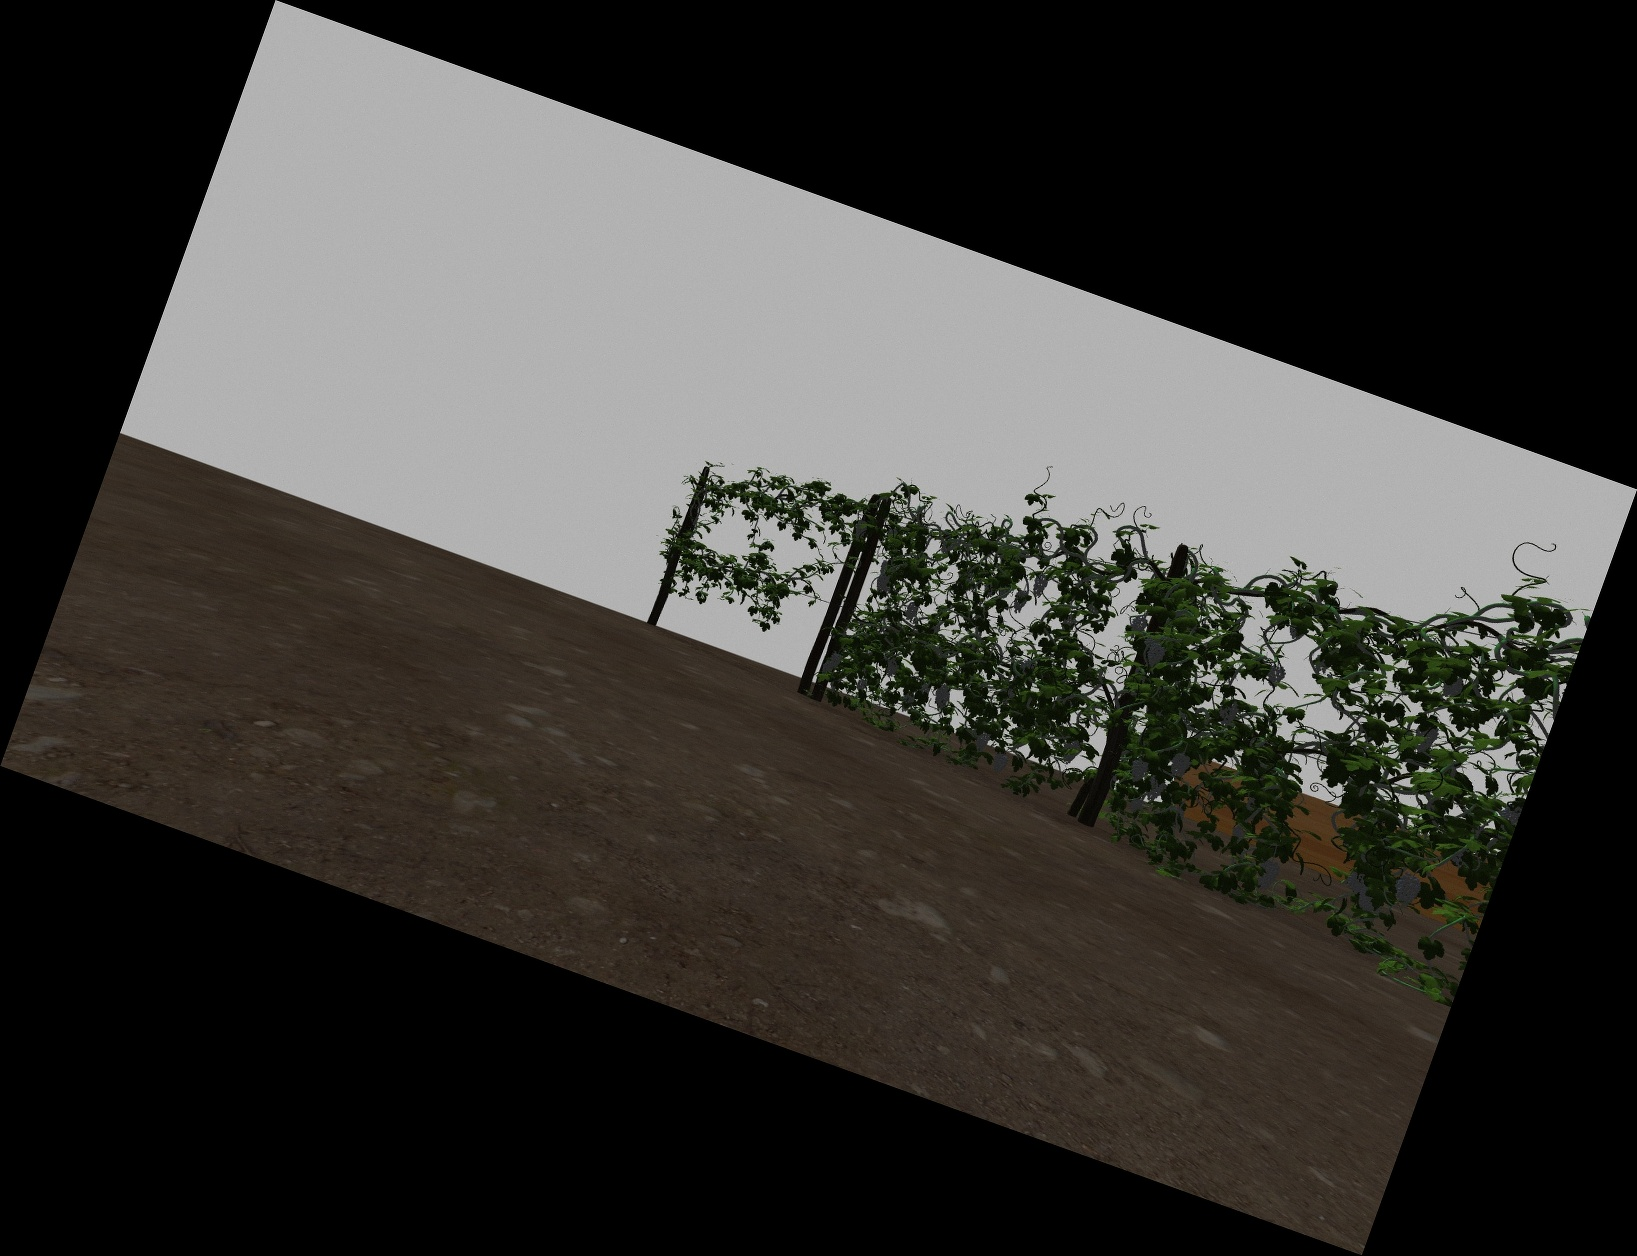grape: (1394, 873, 1419, 906), (1413, 722, 1436, 755), (1257, 859, 1278, 891), (1218, 699, 1237, 730), (1145, 776, 1165, 803), (1170, 752, 1190, 778), (1357, 887, 1377, 912), (1345, 869, 1365, 895), (1063, 738, 1080, 765), (1443, 675, 1463, 699), (1129, 757, 1148, 782), (933, 685, 948, 712), (1146, 643, 1163, 668), (1266, 664, 1283, 687), (1013, 590, 1028, 615), (1130, 615, 1146, 636), (992, 753, 1008, 774), (1033, 574, 1046, 598), (876, 574, 892, 592), (1231, 825, 1245, 843), (886, 657, 900, 677), (906, 600, 918, 621), (855, 520, 867, 540), (976, 734, 989, 749), (828, 653, 842, 669), (1130, 798, 1144, 811), (856, 678, 867, 691), (822, 662, 832, 675)
